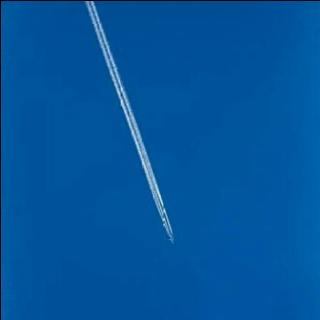Contrails: (0, 0, 265, 262)
